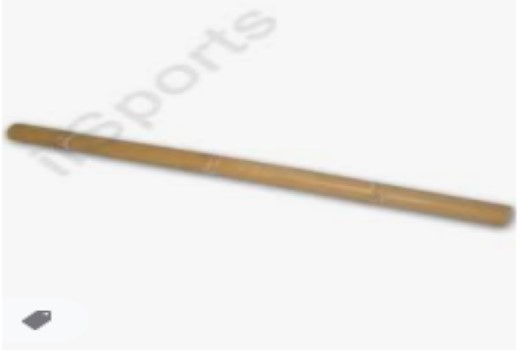baston_e: (18, 125, 505, 228)
baston_v: (492, 192, 518, 234), (0, 115, 23, 146)
